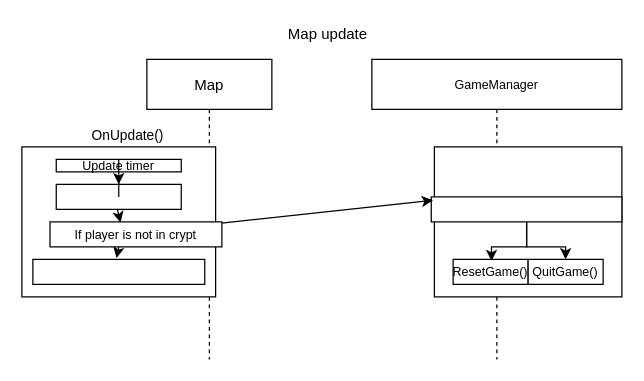
This 644x381 diagram has some shape labels left out. Here are the shapes that lost their labels. From the top down, the box of each, then its label:
(55, 183, 181, 209): If Time Is Up
(430, 196, 622, 222): ChangeMenu(GameOverMenu)
(32, 258, 205, 284): else continue
